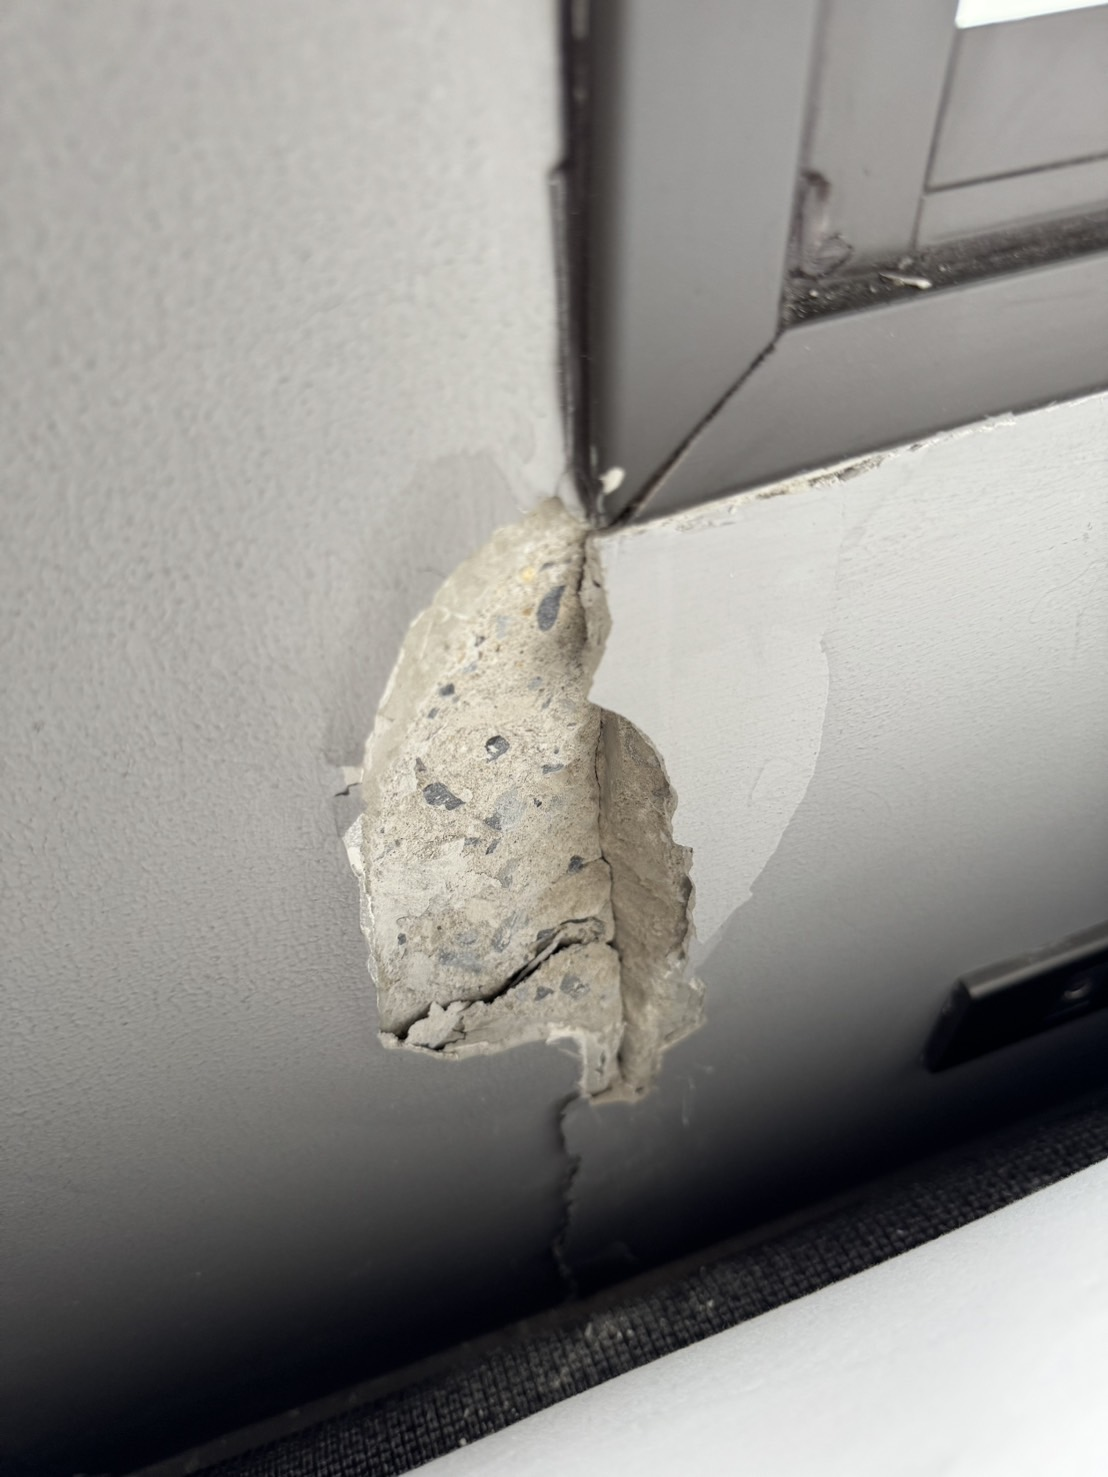High: (270, 493, 839, 1270)
